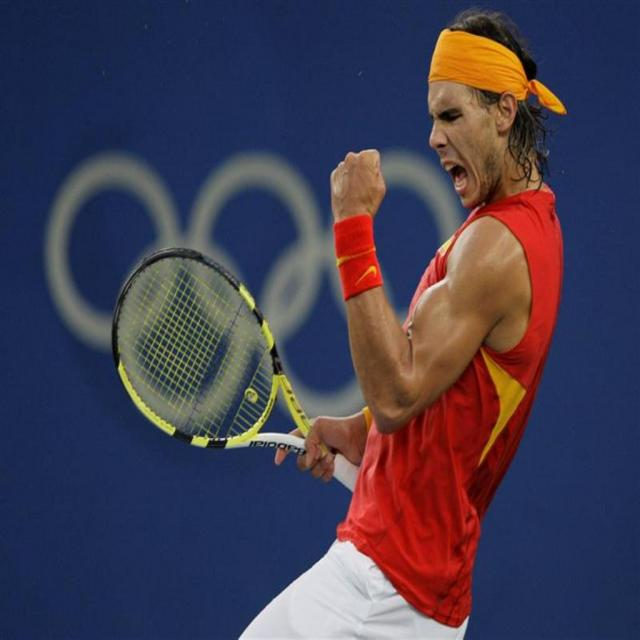nomask: (425, 78, 500, 212)
